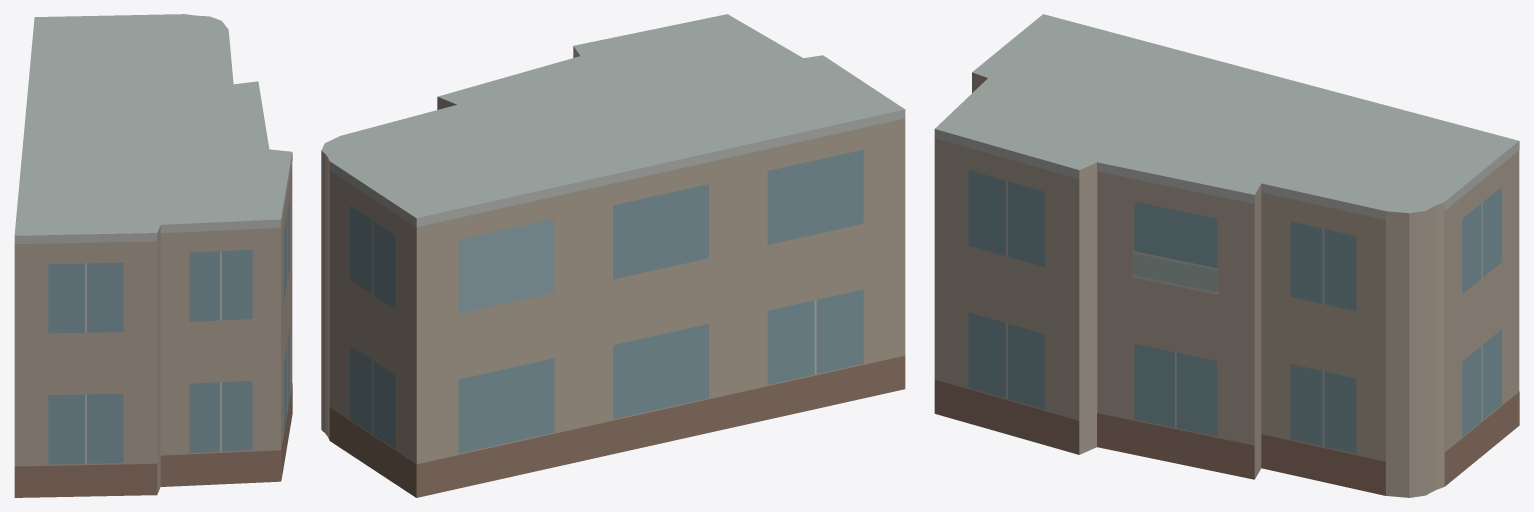
Rendered from survey-upis-32994532.glb.
3 views of the same model, side by side, from view 1: azimuth 30°, elevation 25°; view 2: azimuth 150°, elevation 25°; view 3: azimuth 270°, elevation 25° (orthographic). The views are drawn at different scales.
Visible parts, largest first — view 1: survey-upis-32994532.tmp; view 2: survey-upis-32994532.tmp; view 3: survey-upis-32994532.tmp.
Boxes of the visible parts, x1,y1,x2,y2 form: survey-upis-32994532.tmp: (14,14,292,497); survey-upis-32994532.tmp: (321,14,905,497); survey-upis-32994532.tmp: (934,14,1519,497).
Bounding box in the file's own units: 11.41 × 7.6 × 14.15.
